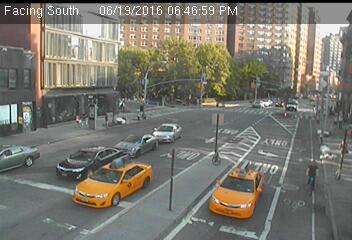neg: (296, 151, 330, 198), (133, 102, 149, 123), (194, 92, 202, 103)
